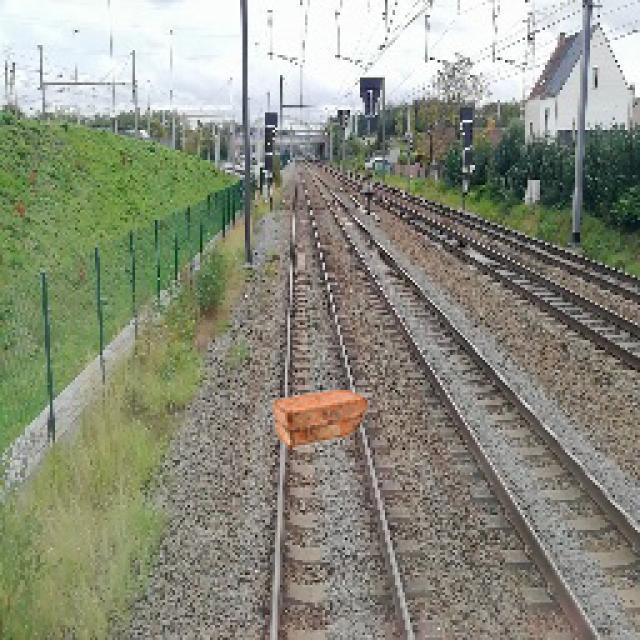rail: (238, 157, 487, 640)
